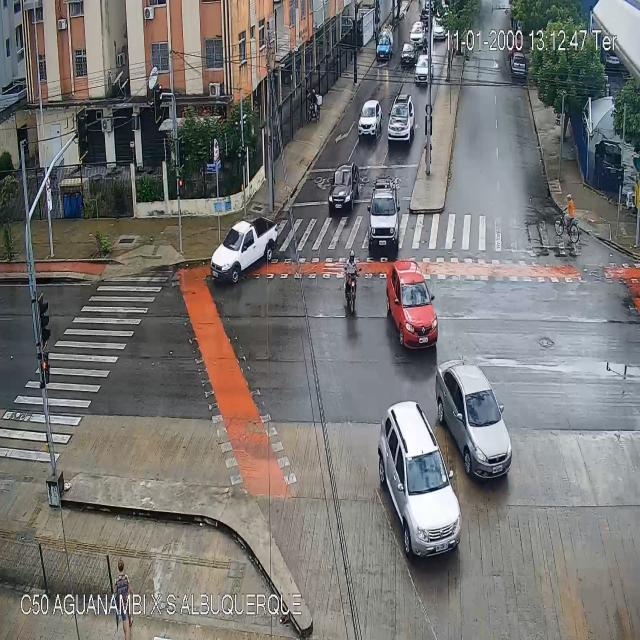Car: (377, 402, 463, 558), (437, 362, 512, 486), (209, 216, 278, 282), (387, 264, 439, 350), (370, 182, 401, 256), (328, 163, 359, 213), (388, 96, 416, 142), (357, 100, 383, 137), (416, 54, 434, 89), (376, 28, 394, 61), (401, 37, 415, 66), (431, 15, 445, 43), (409, 19, 425, 43), (511, 51, 526, 73), (434, 19, 444, 39)
Motorcycle: (344, 250, 358, 314), (307, 85, 321, 122)
